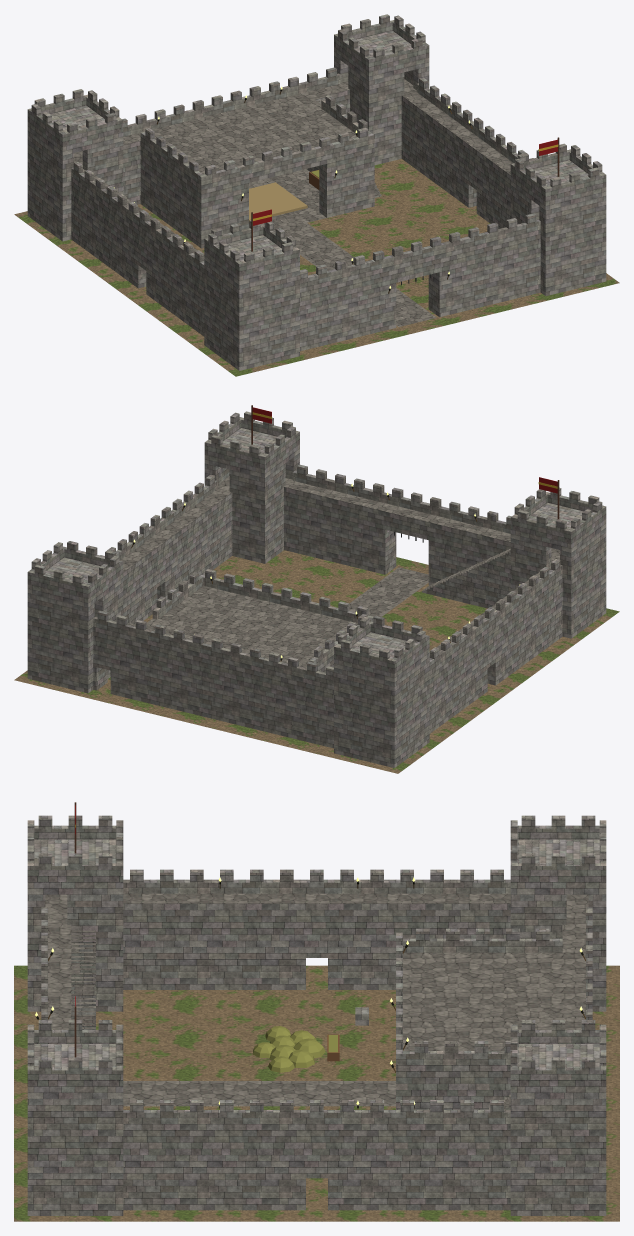
File: draci_hrad.glb
3 views of the same model, one above another, from view 1: azimuth 30°, elevation 25°; view 2: azimuth 150°, elevation 25°; view 3: azimuth 270°, elevation 25° (orthographic). The views are drawn at different scales.
Parts seen in each view (by area): view 1: hrad, zem, podlaha; view 2: hrad, zem, podlaha; view 3: hrad, zem, podlaha.
Boxes of the visible parts, <box> form: hrad: <box>27,14,606,370</box>; zem: <box>14,159,619,376</box>; podlaha: <box>74,79,522,275</box>; hrad: <box>27,405,606,767</box>; zem: <box>14,550,619,773</box>; podlaha: <box>109,476,559,672</box>; hrad: <box>27,802,606,1215</box>; zem: <box>14,965,619,1221</box>; podlaha: <box>45,893,588,1109</box>.
Size of the model in its own units: 44.4 by 15.3 by 44.4.
Materials: 2 (1 with a texture image).
